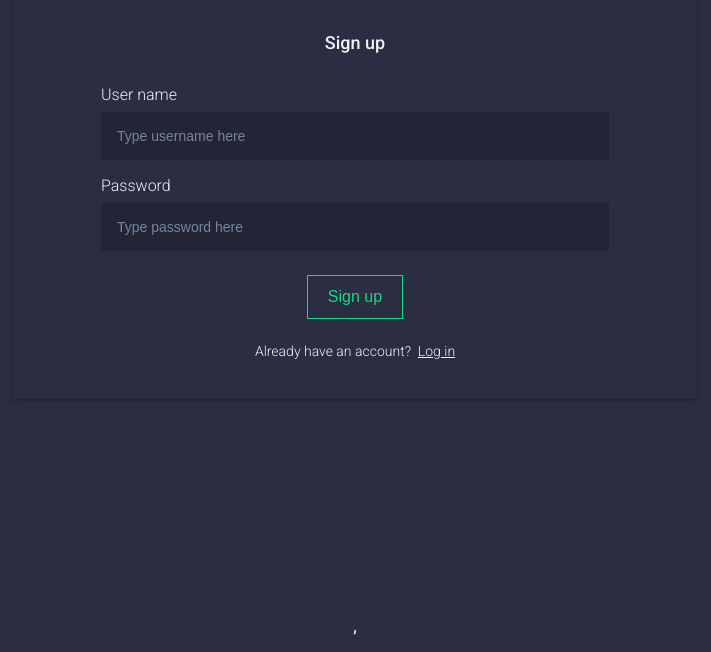
Scenario: allows user to sign up successfully › shows error message when entering invalid credentials
Click the button. click: click(355, 297)
box: top-left (307, 275), bottom-right (403, 319)
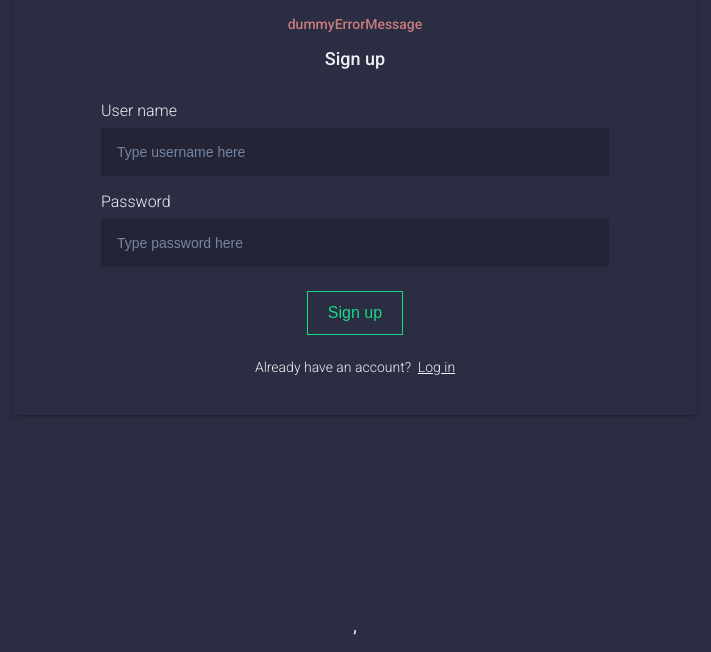
Check: the message reads "dummyErrorMessage", box top-left (288, 16), bottom-right (422, 32)
